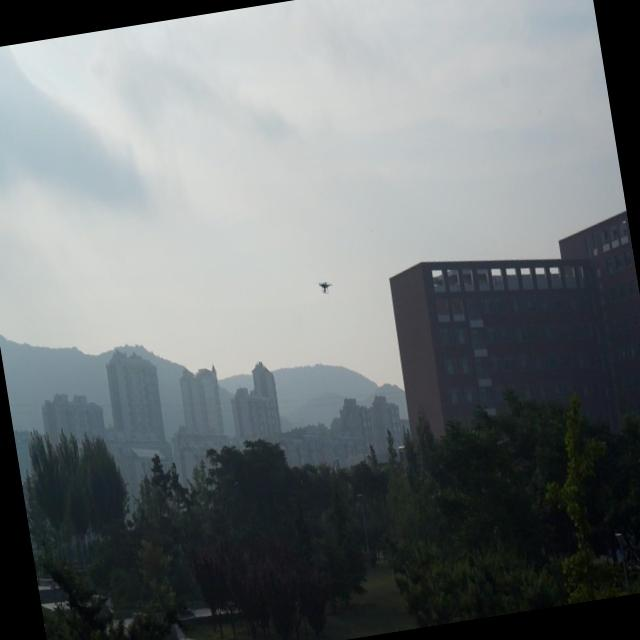drone: (317, 277, 333, 295)
